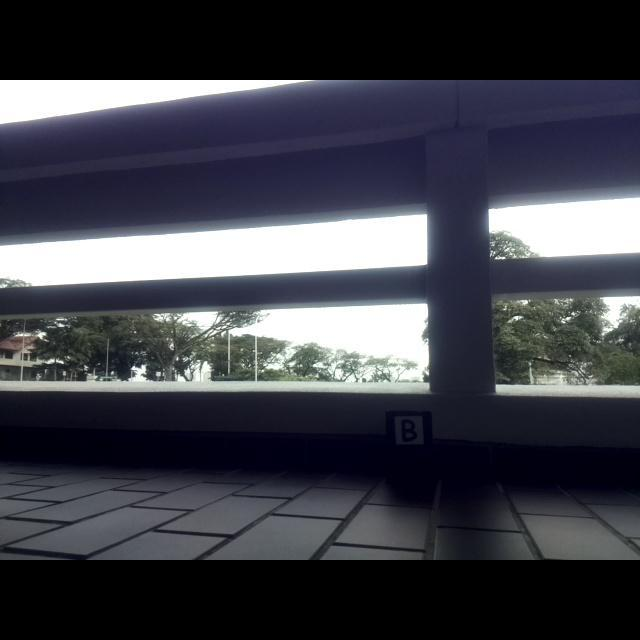B: (401, 419, 417, 443)
